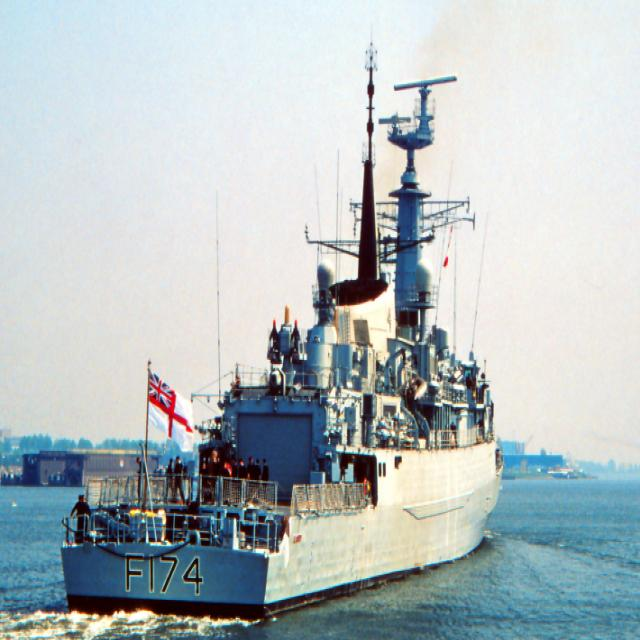Fragata: (56, 25, 506, 618)
